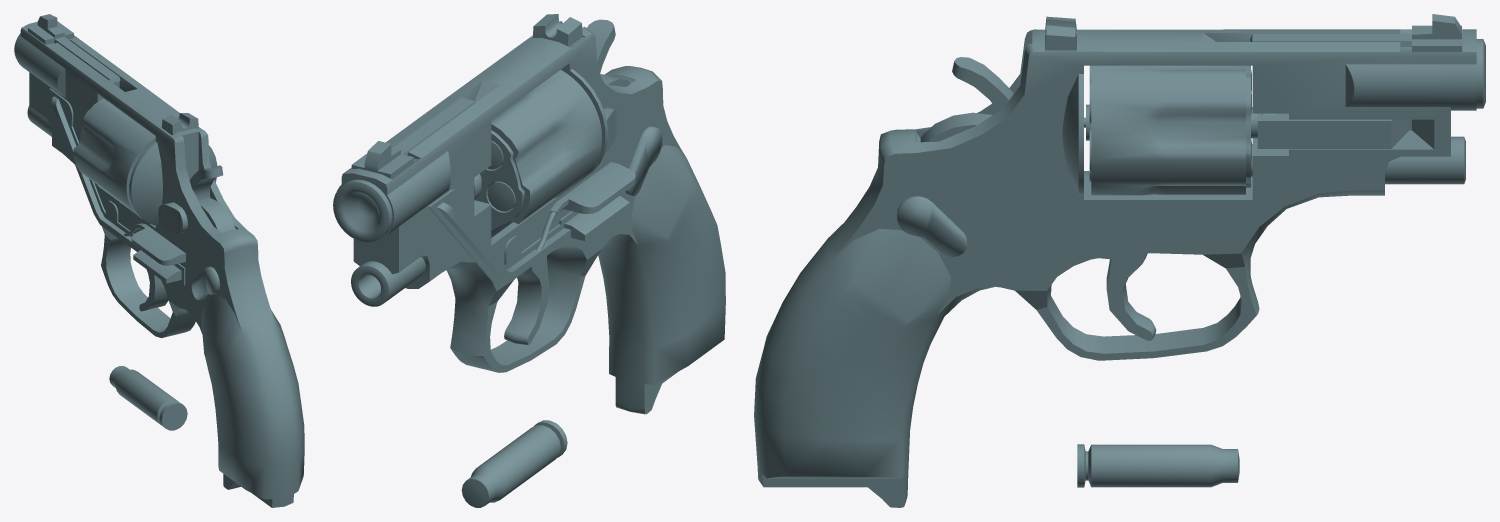
File: OTs.FBX
The picture shows the model from 3 angles, left to right: view 1: azimuth 30°, elevation 25°; view 2: azimuth 150°, elevation 25°; view 3: azimuth 270°, elevation 25°; orthographic projection. The views are drawn at different scales.
Visible parts, largest first — view 1: L_Switch_Low001; view 2: L_Switch_Low001; view 3: L_Switch_Low001.
Part boxes in pixels (left/top/right/bottom): L_Switch_Low001: left=14, top=14, right=304, bottom=507; L_Switch_Low001: left=333, top=14, right=725, bottom=507; L_Switch_Low001: left=754, top=14, right=1485, bottom=507.
Size of the model in its own units: 0.38 by 1.39 by 1.91.
